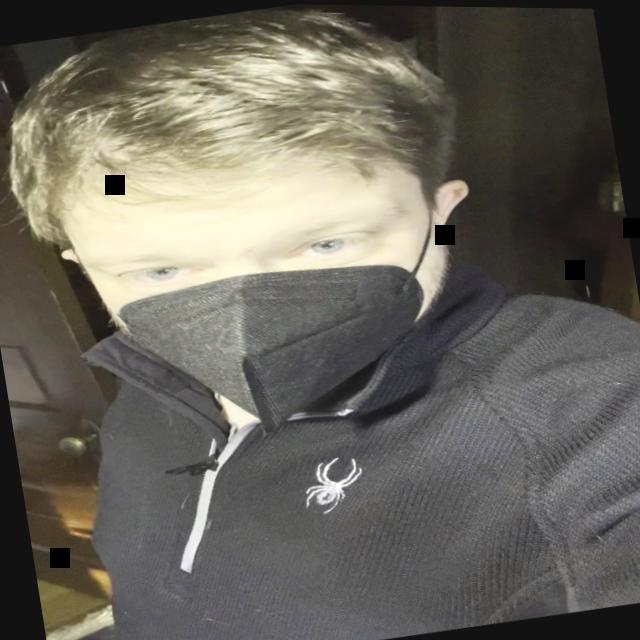Mask: (50, 109, 473, 458)
